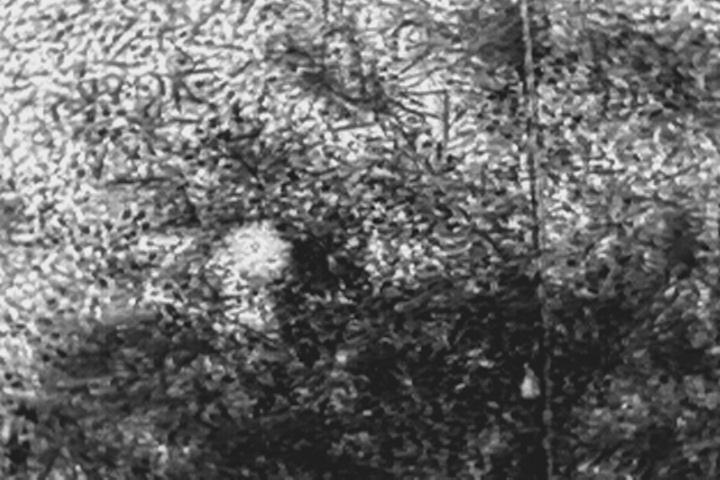landmine: (227, 222, 293, 282)
